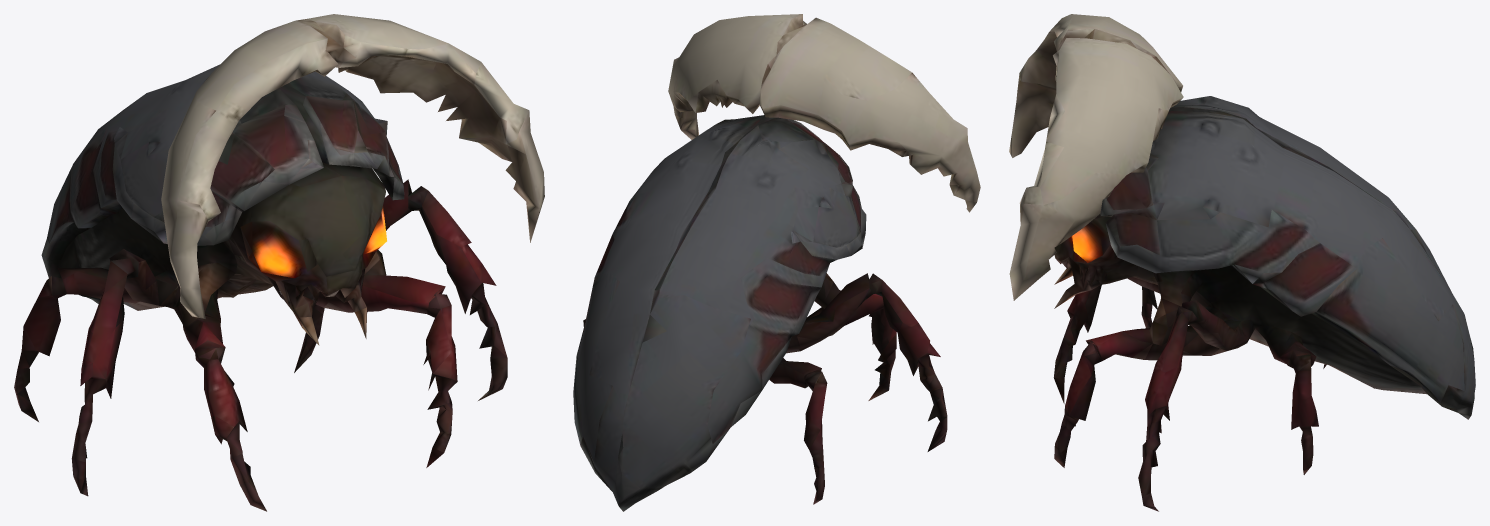
File: enemy_shieldbug.glb
The picture shows the model from 3 angles, left to right: view 1: azimuth 30°, elevation 25°; view 2: azimuth 150°, elevation 25°; view 3: azimuth 270°, elevation 25°; orthographic projection. The views are drawn at different scales.
Visible parts, largest first — view 1: enemy_shieldbug; view 2: enemy_shieldbug; view 3: enemy_shieldbug.
Part boxes in pixels (bbox=[...]): enemy_shieldbug: bbox=[14, 14, 544, 511]; enemy_shieldbug: bbox=[573, 14, 980, 511]; enemy_shieldbug: bbox=[1009, 14, 1475, 511].
Size of the model in its own units: 0.9809 by 1 by 1.05.
Materials: 1 (1 with a texture image).
